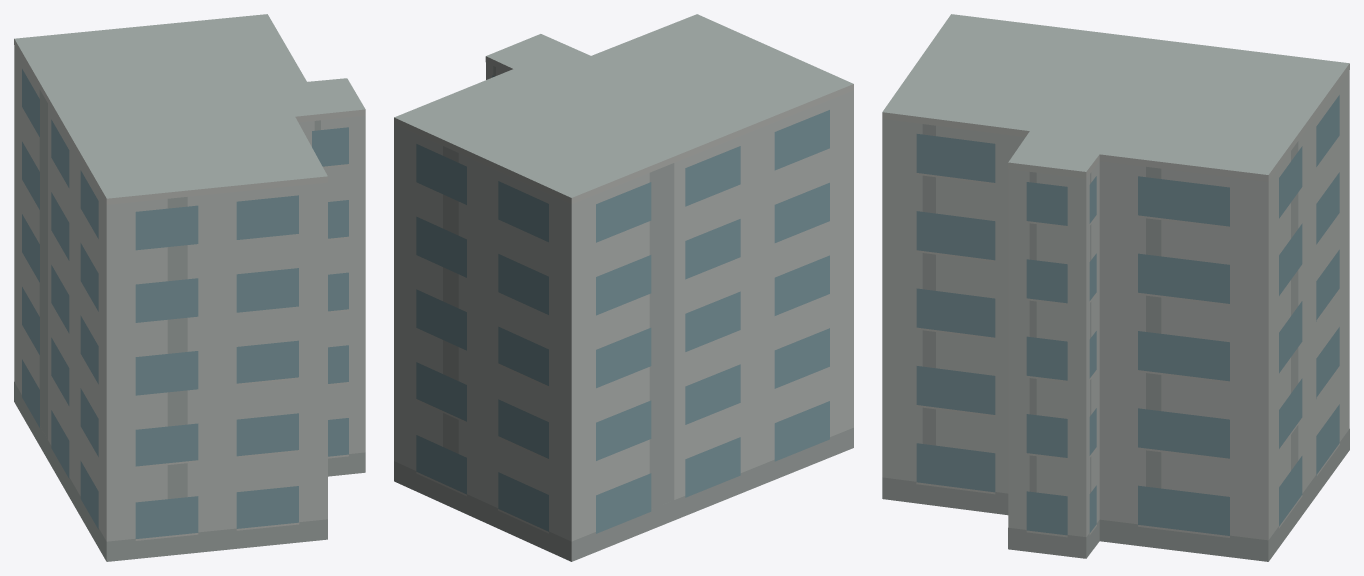
The model's file is survey-upis-32639046.glb.
3 views of the same model, side by side, from view 1: azimuth 30°, elevation 25°; view 2: azimuth 150°, elevation 25°; view 3: azimuth 270°, elevation 25° (orthographic). The views are drawn at different scales.
Visible parts, largest first — view 1: survey-upis-32639046.tmp; view 2: survey-upis-32639046.tmp; view 3: survey-upis-32639046.tmp.
Part boxes in pixels (box(x1,y1,x2,y2)): survey-upis-32639046.tmp: box(14, 14, 365, 561); survey-upis-32639046.tmp: box(394, 14, 853, 561); survey-upis-32639046.tmp: box(882, 14, 1349, 561).
Bounding box in the file's own units: 12.6 × 14.1 × 15.46.
